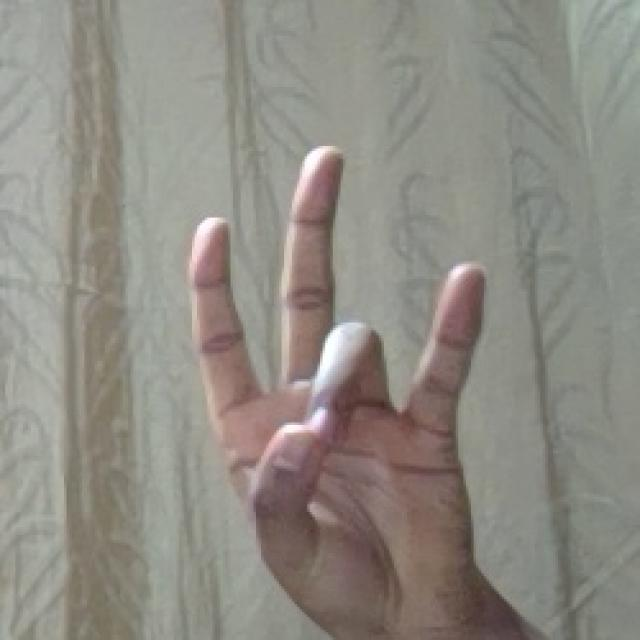Numeric-7: (183, 138, 482, 591)
